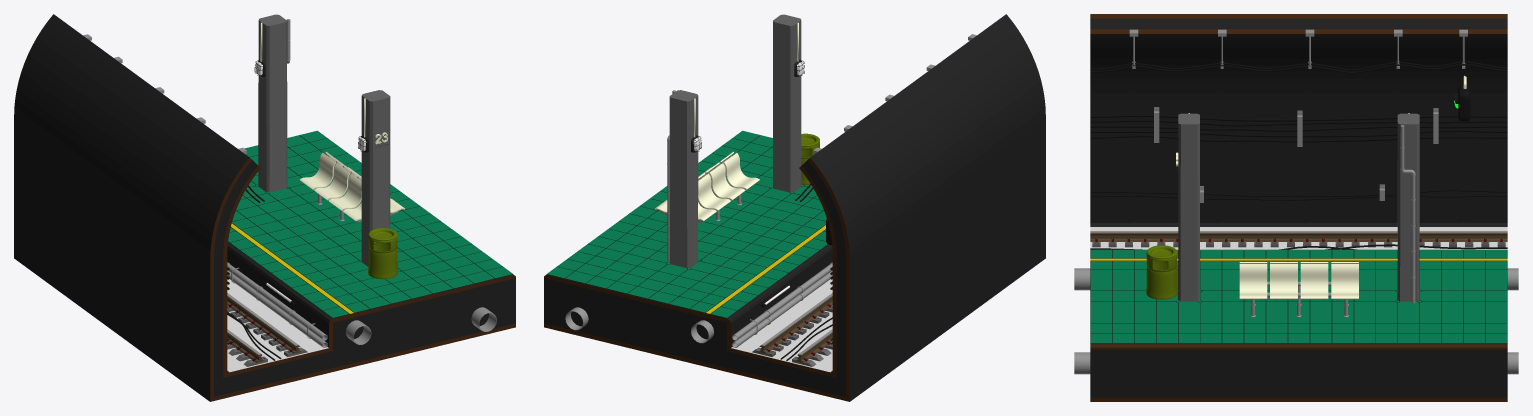
Rendered from lobby.fbx.
3 views of the same model, side by side, from view 1: azimuth 30°, elevation 25°; view 2: azimuth 150°, elevation 25°; view 3: azimuth 270°, elevation 25° (orthographic). The views are drawn at different scales.
Parts seen in each view (by area): view 1: Structure, bench, pipe2, Bin, Rails, Rails structure; view 2: Structure, bench, pipe2, Rails, Rails structure, Bin; view 3: Structure, bench, Rails, roof wires, Bin, wall wires, Rails structure, Wall wire 5, Wall wire 2, Wall wire 3, Wall wire 4, Wall wire 1 (+6 smaller).
Boxes of the visible parts, <box> form: Structure: <box>14,14,515,401</box>; bench: <box>300,151,404,221</box>; pipe2: <box>227,262,327,347</box>; Bin: <box>368,228,397,279</box>; Rails: <box>227,293,300,362</box>; Rails structure: <box>227,304,307,366</box>; Structure: <box>544,14,1045,401</box>; bench: <box>654,152,759,221</box>; pipe2: <box>732,262,832,347</box>; Rails: <box>759,293,832,362</box>; Rails structure: <box>752,304,832,366</box>; Bin: <box>801,133,819,185</box>; Structure: <box>1090,14,1507,401</box>; bench: <box>1239,262,1358,299</box>; Rails: <box>1090,231,1507,241</box>; roof wires: <box>1090,61,1507,73</box>; Bin: <box>1146,245,1177,299</box>; wall wires: <box>1090,189,1507,200</box>; Rails structure: <box>1092,238,1505,247</box>; Wall wire 5: <box>1090,134,1507,142</box>; Wall wire 2: <box>1090,119,1507,126</box>; Wall wire 3: <box>1090,125,1507,131</box>; Wall wire 4: <box>1090,129,1507,137</box>; Wall wire 1: <box>1090,114,1507,121</box>.
Size of the model in its own units: 900 by 661 by 1065.
